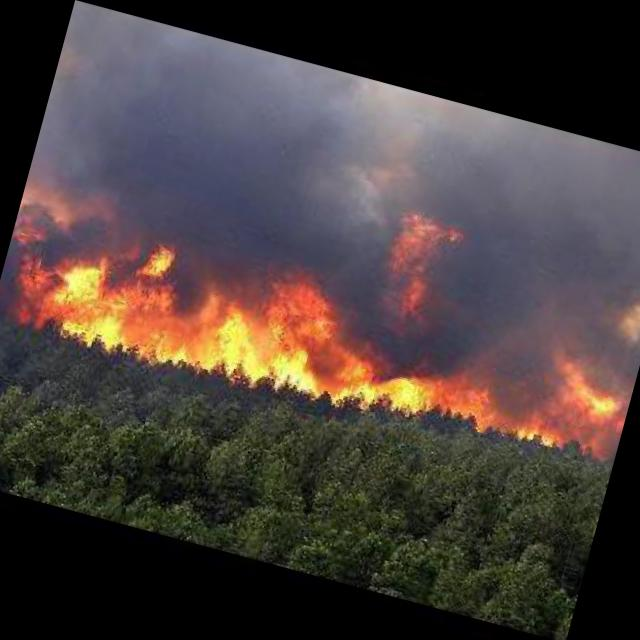fire: (0, 196, 531, 456), (518, 338, 636, 467)
